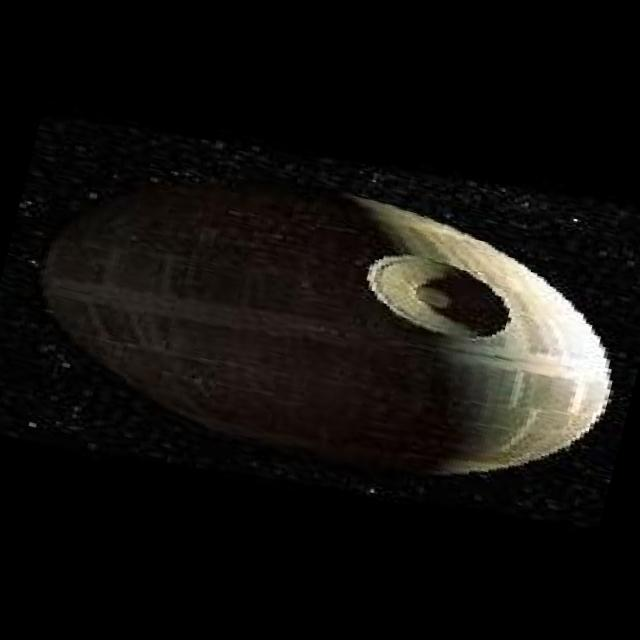Death Star: (0, 116, 640, 530)
